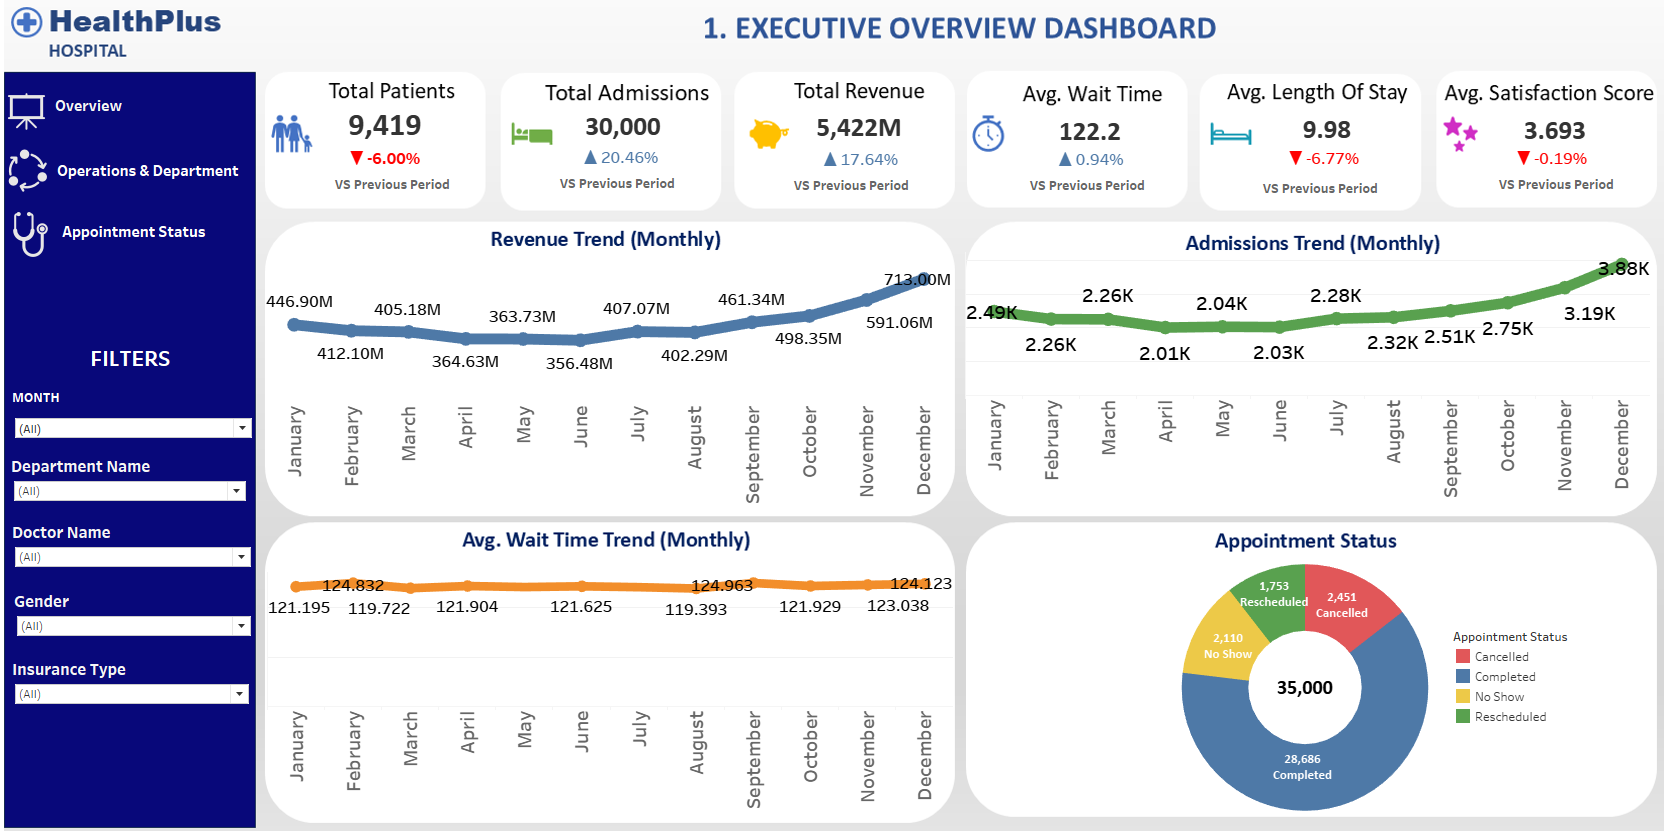

Layout of this report page (visuals, bound fields, positions):
{"tool":"tableau","page":{"name":"Executive Overview","canvas":[1709,856],"ordinal":0},"visuals":[{"type":"image","param":"Image/Presentation1.png","box":[8,8,1693,840]},{"type":"dashboard-object","box":[11,91,172,54]},{"type":"image","param":"Image/Picture1.svg","box":[6,101,57,47]},{"type":"worksheet","title":"Total Patients","mark":"Automatic","box":[328,110,129,55]},{"type":"worksheet","title":"Total Admissions","mark":"Automatic","box":[555,115,152,47]},{"type":"worksheet","title":"Avg Satisfaction Score","mark":"Automatic","box":[1473,116,180,87]},{"type":"worksheet","title":"Total Revenue","mark":"Automatic","box":[795,117,143,45]},{"type":"worksheet","title":"Avg Of Stay Days","mark":"Automatic","box":[1263,117,144,50]},{"type":"worksheet","title":"Avg Wait Time","mark":"Automatic","box":[1020,120,155,47]},{"type":"worksheet","title":"Patients Growth","mark":"Automatic","box":[337,146,111,50]},{"type":"worksheet","title":"Avg Wait Time Growth","mark":"Automatic","box":[1018,148,161,47]},{"type":"worksheet","title":"Total Admission Growth","mark":"Automatic","box":[579,149,99,42]},{"type":"worksheet","title":"Avg Satisfaction Score Grwot","mark":"Automatic","box":[1505,149,109,43]},{"type":"worksheet","title":"Revenue Growth","mark":"Automatic","box":[815,150,104,43]},{"type":"worksheet","title":"Avg Of Stay Growth","mark":"Automatic","box":[1285,153,93,35]},{"type":"dashboard-object","box":[39,155,234,56]},{"type":"text","box":[565,181,121,30]},{"type":"text","box":[340,182,121,30]},{"type":"text","box":[1504,182,121,30]},{"type":"text","box":[799,183,121,30]},{"type":"text","box":[1035,183,121,30]},{"type":"text","box":[1268,186,121,30]},{"type":"dashboard-object","box":[39,218,206,52]},{"type":"image","param":"Image/Picture3.svg","box":[5,223,67,49]},{"type":"worksheet","title":"Revenue Trend (Monthly)","mark":"Automatic","rows":["Revenue"],"cols":["Admission_Date"],"box":[273,280,687,254]},{"type":"worksheet","title":"Admission Trend (Monthly)","mark":"Automatic","rows":["Admission_ID"],"cols":["Admission_Date"],"box":[973,281,685,247]},{"type":"text","box":[13,356,251,30]},{"type":"filter","title":"Revenue Trend (Monthly)","param":"[federated.0m1gyx91rqx2dw12bt20d0494kdl].[mn:Admission_Date:ok]","box":[20,401,243,63]},{"type":"filter","title":"Total Patients","param":"[federated.0m1gyx91rqx2dw12bt20d0494kdl].[none:Department_Name:nk]","box":[19,468,238,141]},{"type":"filter","title":"Total Patients","param":"[federated.0m1gyx91rqx2dw12bt20d0494kdl].[none:Doctor_Name:nk]","box":[20,534,242,61]},{"type":"worksheet","title":"Appoitment Status Distribution","mark":"Pie","rows":["Calculation_112308524602679297","Calculation_112308524602679297"],"box":[975,572,676,257]},{"type":"worksheet","title":"Avg. Wait Time Trend","mark":"Automatic","rows":["Wait_Time_Minutes"],"cols":["Admission_Date"],"box":[275,585,686,254]},{"type":"filter","title":"Total Patients","param":"[federated.0m1gyx91rqx2dw12bt20d0494kdl].[none:Gender:nk]","box":[22,603,240,53]},{"type":"legend","title":"Appoitment Status Distribution","param":"[federated.0m1gyx91rqx2dw12bt20d0494kdl].[none:Appointment_Status:nk]","box":[1461,641,155,118]},{"type":"filter","title":"Total Patients","param":"[federated.0m1gyx91rqx2dw12bt20d0494kdl].[none:Insurance_Type:nk]","box":[20,671,240,64]}]}

Visuals, with their boxes in screenshot pixels (x1, y1, x2, y2), scaled from the page's 1709x856 canvas onto the 1664x832 screenshot:
image: detection(8, 8, 1656, 824)
dashboard-object: detection(11, 88, 178, 141)
image: detection(6, 98, 61, 144)
"Total Patients" worksheet: detection(319, 107, 445, 160)
"Total Admissions" worksheet: detection(540, 112, 688, 157)
"Avg Satisfaction Score" worksheet: detection(1434, 113, 1609, 197)
"Total Revenue" worksheet: detection(774, 114, 913, 157)
"Avg Of Stay Days" worksheet: detection(1230, 114, 1370, 162)
"Avg Wait Time" worksheet: detection(993, 117, 1144, 162)
"Patients Growth" worksheet: detection(328, 142, 436, 191)
"Avg Wait Time Growth" worksheet: detection(991, 144, 1148, 190)
"Total Admission Growth" worksheet: detection(564, 145, 660, 186)
"Avg Satisfaction Score Grwot" worksheet: detection(1465, 145, 1572, 187)
"Revenue Growth" worksheet: detection(794, 146, 895, 188)
"Avg Of Stay Growth" worksheet: detection(1251, 149, 1342, 183)
dashboard-object: detection(38, 151, 266, 205)
text: detection(550, 176, 668, 205)
text: detection(331, 177, 449, 206)
text: detection(1464, 177, 1582, 206)
text: detection(778, 178, 896, 207)
text: detection(1008, 178, 1126, 207)
text: detection(1235, 181, 1352, 210)
dashboard-object: detection(38, 212, 239, 262)
image: detection(5, 217, 70, 264)
"Revenue Trend (Monthly)" worksheet: detection(266, 272, 935, 519)
"Admission Trend (Monthly)" worksheet: detection(947, 273, 1614, 513)
text: detection(13, 346, 257, 375)
"Revenue Trend (Monthly)" filter: detection(19, 390, 256, 451)
"Total Patients" filter: detection(18, 455, 250, 592)
"Total Patients" filter: detection(19, 519, 255, 578)
"Appoitment Status Distribution" worksheet (Pie marks): detection(949, 556, 1608, 806)
"Avg. Wait Time Trend" worksheet: detection(268, 569, 936, 815)
"Total Patients" filter: detection(21, 586, 255, 638)
"Appoitment Status Distribution" legend: detection(1423, 623, 1573, 738)
"Total Patients" filter: detection(19, 652, 253, 714)
